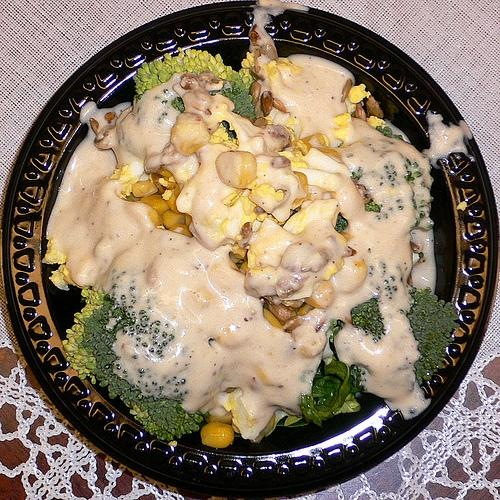broccoli: (62, 286, 211, 442), (398, 286, 460, 385), (210, 72, 256, 123), (364, 199, 380, 213)
corn: (170, 112, 210, 156), (216, 152, 258, 188), (337, 258, 368, 294), (200, 422, 234, 448), (305, 280, 334, 309), (290, 171, 310, 210), (140, 196, 169, 216), (162, 210, 185, 228), (131, 182, 158, 197), (256, 366, 273, 386), (205, 413, 232, 424), (297, 139, 312, 156), (284, 316, 300, 330), (166, 182, 178, 190)
